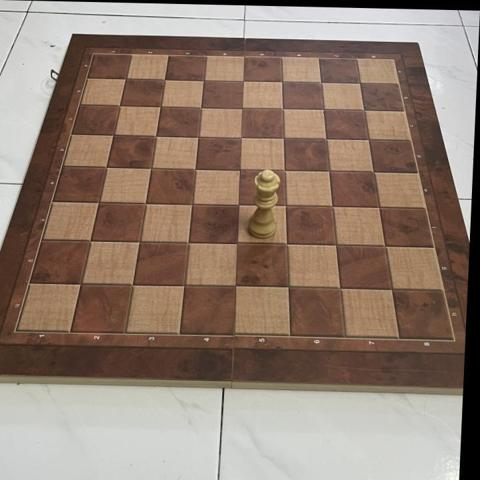xcorner: (271, 72, 290, 91), (193, 71, 212, 90), (272, 99, 291, 118), (188, 127, 207, 146), (319, 161, 338, 180), (182, 194, 201, 213), (350, 73, 368, 92), (310, 73, 329, 91), (232, 72, 251, 90), (116, 70, 134, 89), (354, 100, 372, 119), (316, 129, 334, 148), (273, 129, 292, 147), (186, 159, 204, 178), (141, 159, 160, 177), (229, 195, 247, 214), (277, 235, 296, 253), (228, 234, 246, 253), (179, 233, 197, 252), (130, 232, 148, 251), (81, 232, 100, 250), (383, 281, 402, 299), (123, 276, 142, 294), (155, 71, 173, 89), (313, 100, 331, 118), (232, 99, 250, 117), (191, 98, 209, 116), (151, 98, 169, 116), (110, 97, 128, 115), (359, 130, 377, 148), (231, 128, 249, 146), (146, 127, 164, 145), (104, 126, 122, 144), (364, 162, 382, 180), (275, 161, 293, 179), (230, 160, 248, 178), (97, 158, 115, 176), (370, 198, 388, 216), (323, 197, 341, 215), (276, 196, 294, 214), (136, 194, 154, 212), (90, 193, 108, 211), (376, 237, 394, 255), (327, 236, 345, 254), (331, 280, 349, 298), (279, 279, 297, 297), (227, 278, 245, 296), (175, 277, 193, 295), (72, 275, 90, 293)
